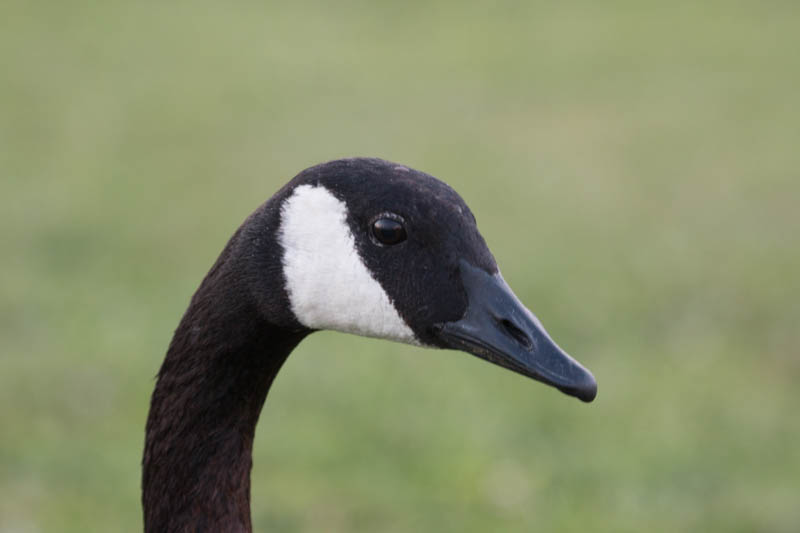goose-head: (248, 159, 597, 403)
